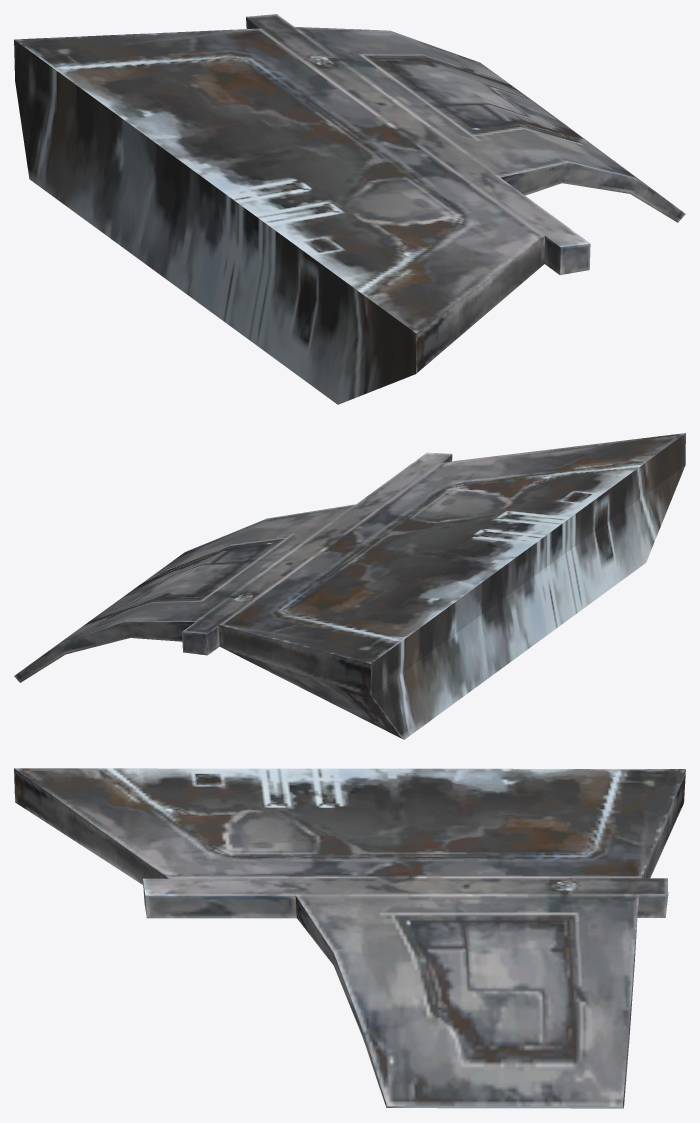
Rendered from hth_item_junk_10.glb.
3 views of the same model, one above another, from view 1: azimuth 30°, elevation 25°; view 2: azimuth 150°, elevation 25°; view 3: azimuth 270°, elevation 25° (orthographic). The views are drawn at different scales.
Visible parts, largest first — view 1: hth_item_junk_10; view 2: hth_item_junk_10; view 3: hth_item_junk_10.
Boxes of the visible parts, left/top/right/bottom form: hth_item_junk_10: left=14, top=14, right=685, bottom=404; hth_item_junk_10: left=14, top=433, right=685, bottom=739; hth_item_junk_10: left=14, top=768, right=685, bottom=1108.
Bounding box in the file's own units: 0.291 × 0.0934 × 0.3994.
1 material, 1 textured.
